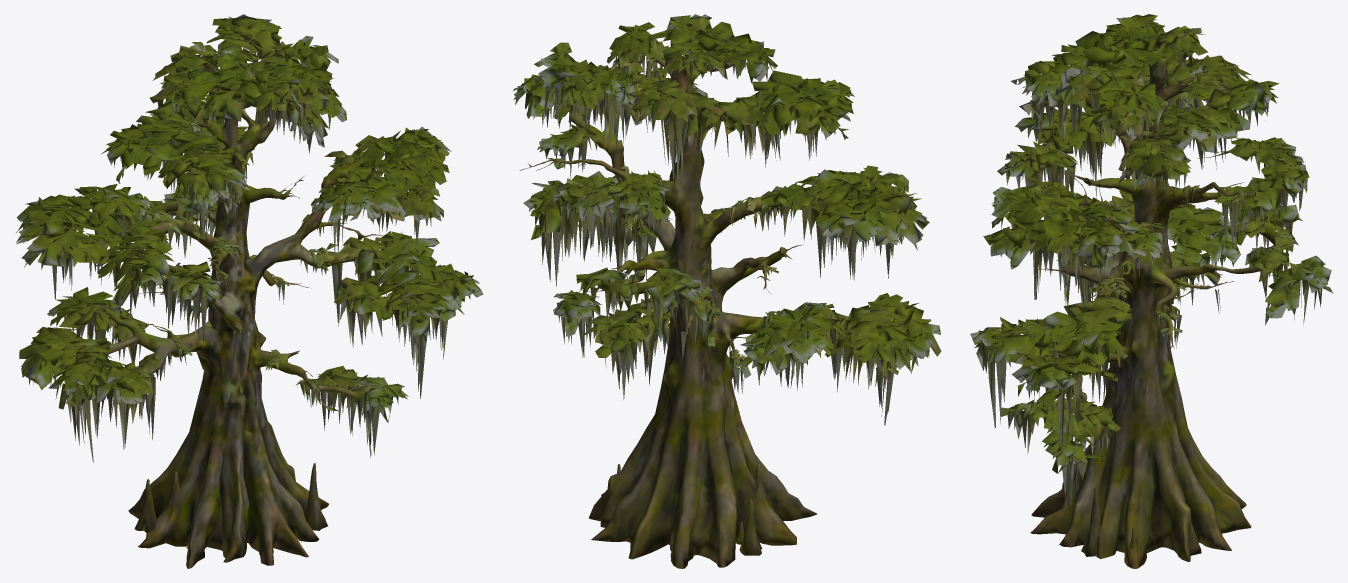
The model's file is swamp_0.glb.
3 renders of one model, left to right at view 1: azimuth 30°, elevation 25°; view 2: azimuth 150°, elevation 25°; view 3: azimuth 270°, elevation 25°, orthographic. The views are drawn at different scales.
Parts seen in each view (by area): view 1: geometry_0; view 2: geometry_0; view 3: geometry_0.
Boxes of the visible parts, x1,y1,x2,y2 form: geometry_0: (16, 14, 483, 568); geometry_0: (513, 14, 941, 568); geometry_0: (970, 14, 1333, 568).
Bounding box in the file's own units: 0.8789 × 0.9478 × 0.6431.
1 material, 1 textured.
